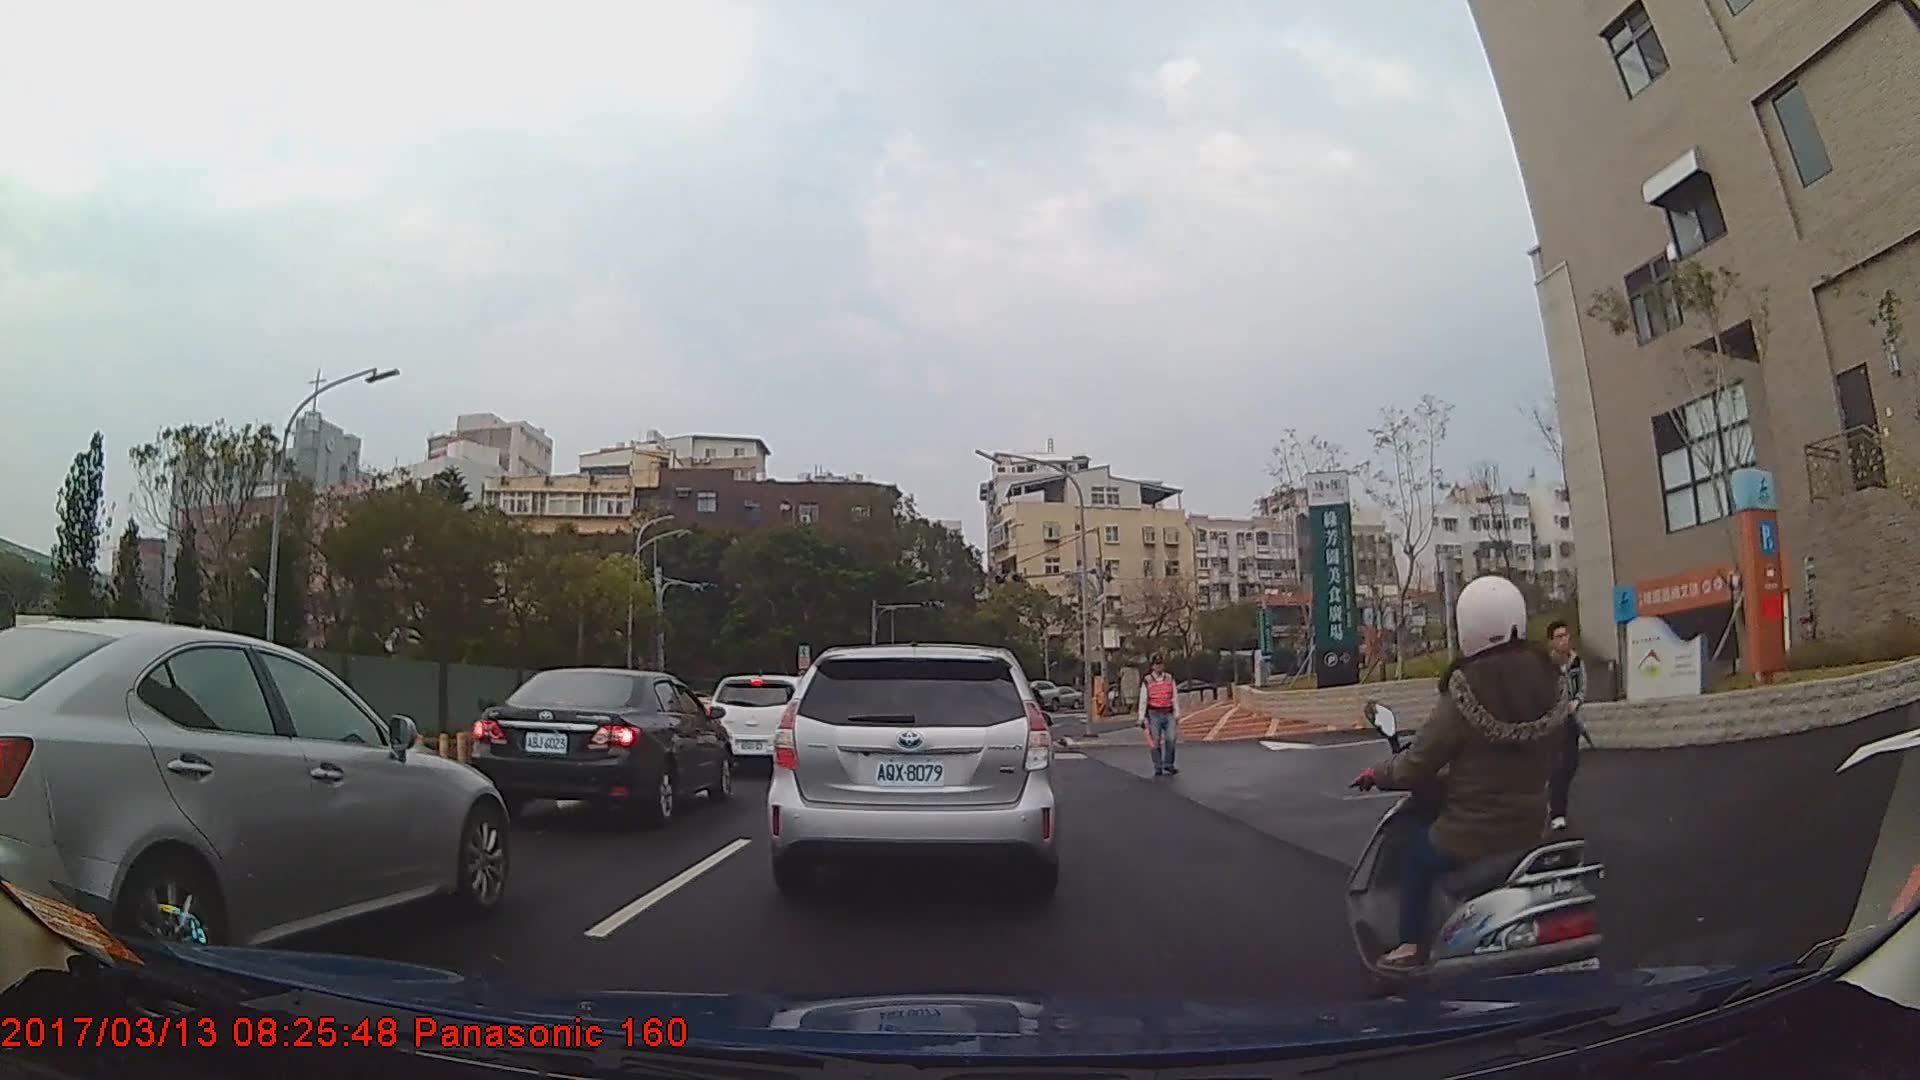pedestrian: (1139, 656, 1183, 781)
rider: (1340, 576, 1612, 1043)
vehicle: (0, 612, 509, 971), (766, 643, 1061, 900), (472, 666, 735, 827), (713, 675, 820, 766), (1044, 685, 1084, 714)
